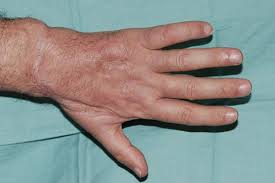hand: (37, 6, 254, 177)
